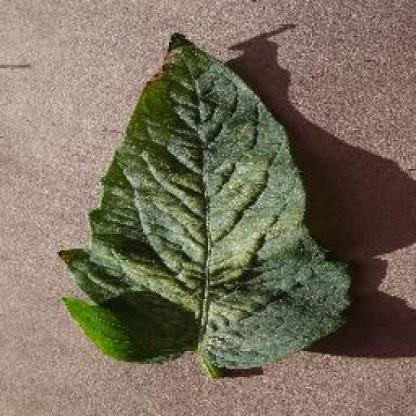Tomato_Spider_Mites: (57, 34, 352, 364)
